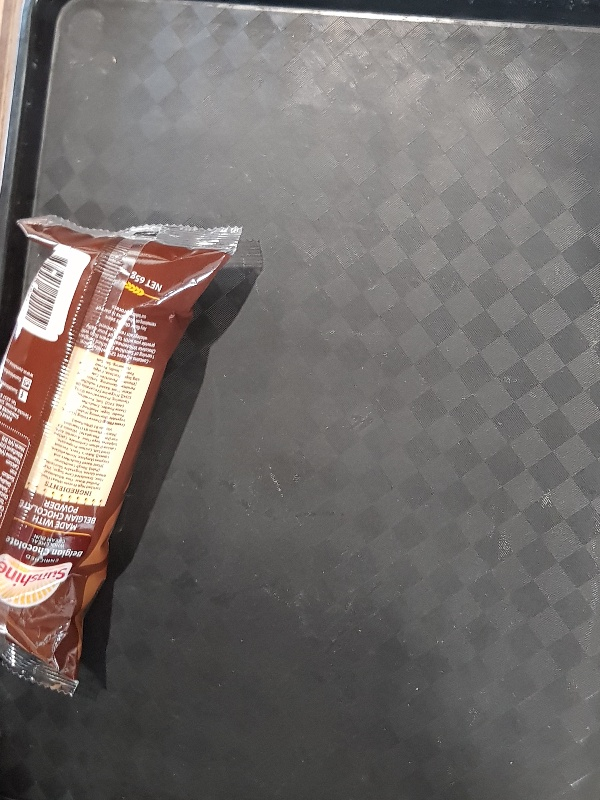Sunshine Belgium Chocolate Wholemeal Cream Bun: (3, 211, 244, 699)
